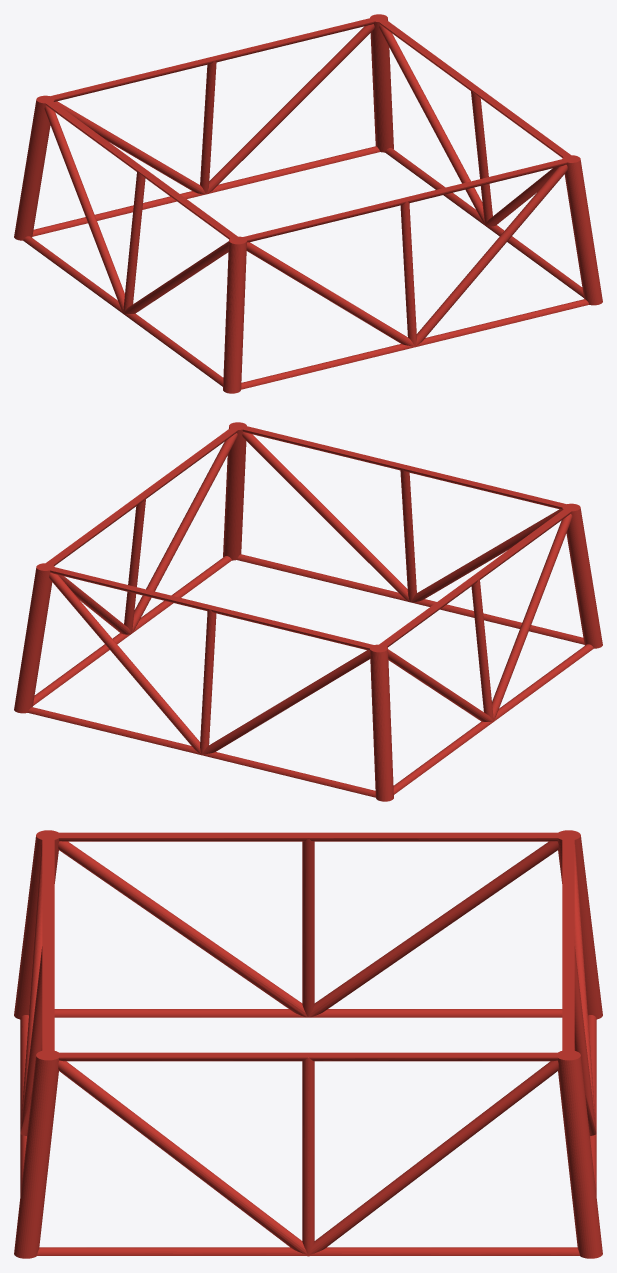
3 views of the same model, one above another, from view 1: azimuth 30°, elevation 25°; view 2: azimuth 150°, elevation 25°; view 3: azimuth 270°, elevation 25° (orthographic). The views are drawn at different scales.
Visible parts, largest first — view 1: H8-H9; view 2: H8-H9; view 3: H8-H9.
Part boxes in pixels (<box>): H8-H9: <box>14,14,602,393</box>; H8-H9: <box>14,422,602,801</box>; H8-H9: <box>14,830,602,1258</box>.
Bounding box in the file's own units: 24.01 × 8.5 × 24.01.
